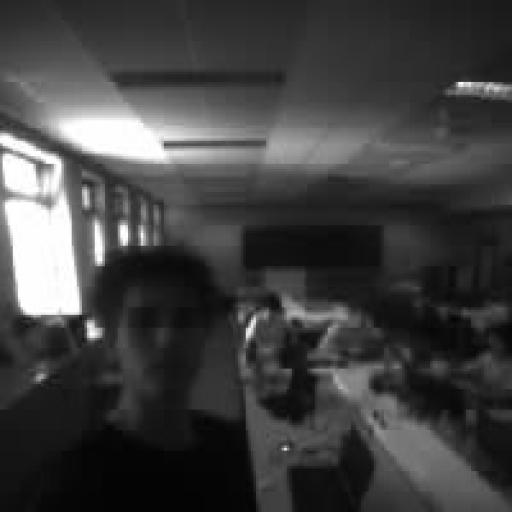human: (26, 246, 255, 511), (244, 292, 289, 396), (316, 300, 390, 357), (454, 323, 511, 396)
